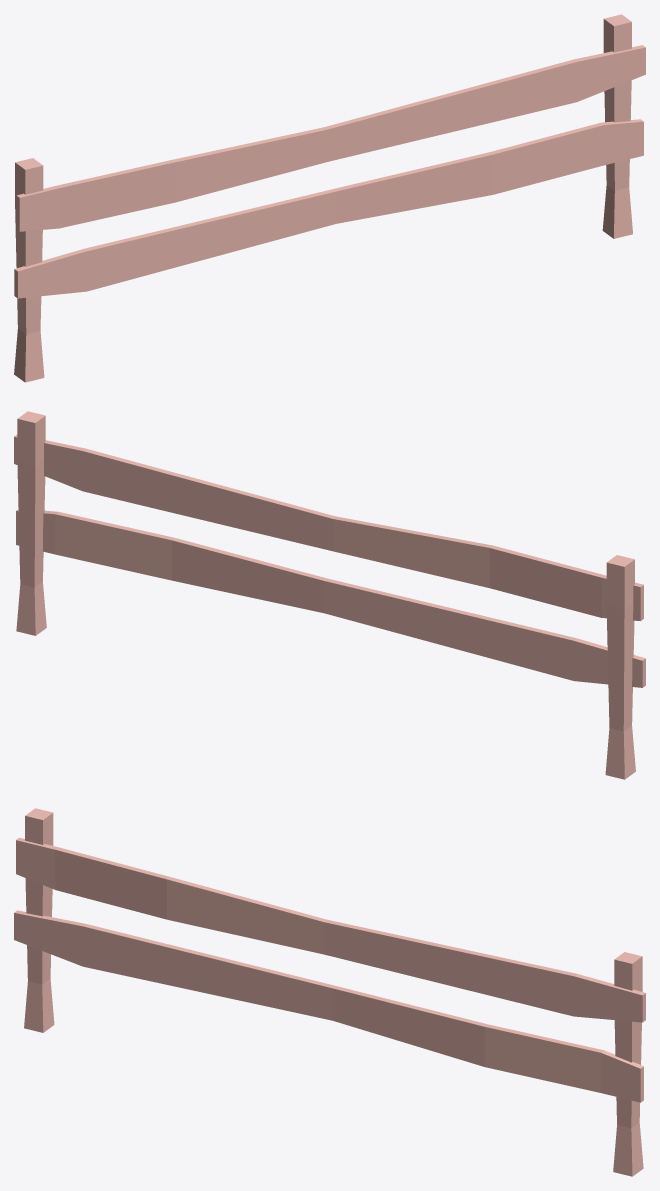
File: Mega_Asset_s_Pack_Cube_248.FBX
3 renders of one model, top to bottom at view 1: azimuth 30°, elevation 25°; view 2: azimuth 150°, elevation 25°; view 3: azimuth 330°, elevation 25°, orthographic.
Visible parts, largest first — view 1: Mega_Asset_s_Pack_Cube_248; view 2: Mega_Asset_s_Pack_Cube_248; view 3: Mega_Asset_s_Pack_Cube_248.
Part boxes in pixels (box(x1,y1,x2,y2)): Mega_Asset_s_Pack_Cube_248: box(14, 14, 645, 382); Mega_Asset_s_Pack_Cube_248: box(14, 411, 645, 779); Mega_Asset_s_Pack_Cube_248: box(14, 808, 645, 1176).
Size of what is drawn, in the model's own units: 609 by 25.12 by 197.
